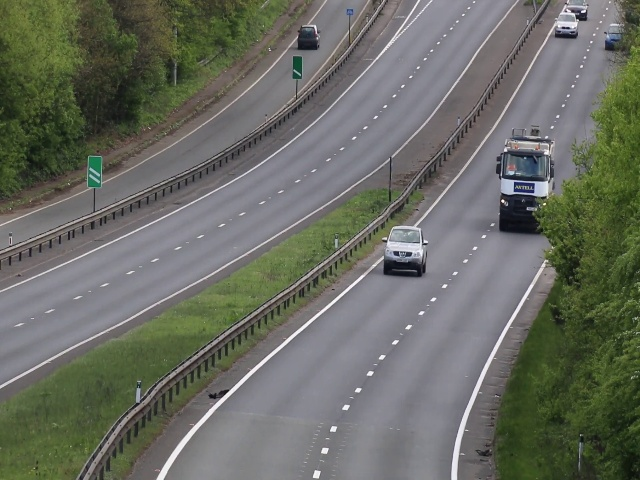car: (498, 135, 546, 233), (384, 226, 426, 274), (295, 22, 323, 51), (552, 12, 580, 38), (604, 24, 620, 49)
